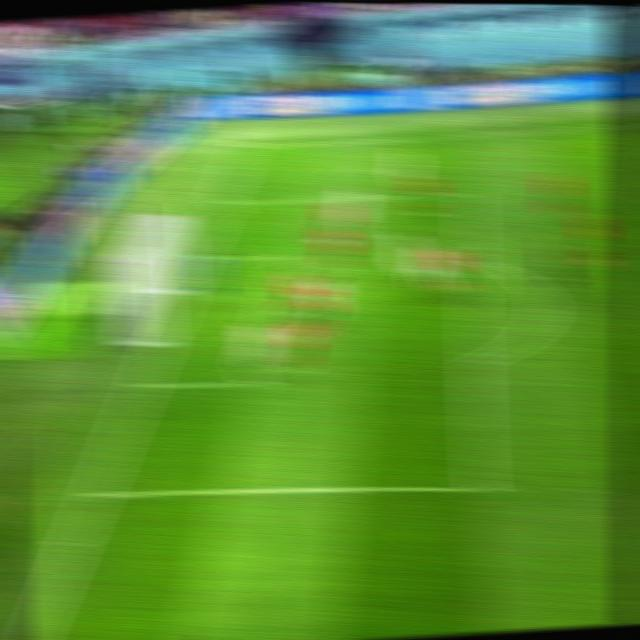bigarea_bottom_inner: (457, 468, 504, 502)
bigarea_bottom_outter: (77, 480, 116, 511)
bigarea_top_inner: (452, 180, 486, 203)
bigarea_top_outter: (205, 192, 239, 213)
bottom_arc_area_intersection: (458, 349, 495, 376)
corner: (229, 137, 262, 154)
smallarea_bottom_inner: (231, 362, 273, 401)
smallarea_bottom_outter: (123, 367, 165, 400)
smallarea_top_inner: (268, 243, 303, 270)
smallarea_top_outter: (179, 244, 216, 270)
top_arc_area_intersection: (455, 245, 490, 272)
